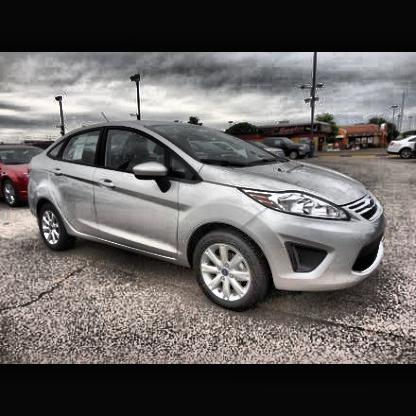Ford Fiesta Sedan 2012: (27, 120, 389, 315)
